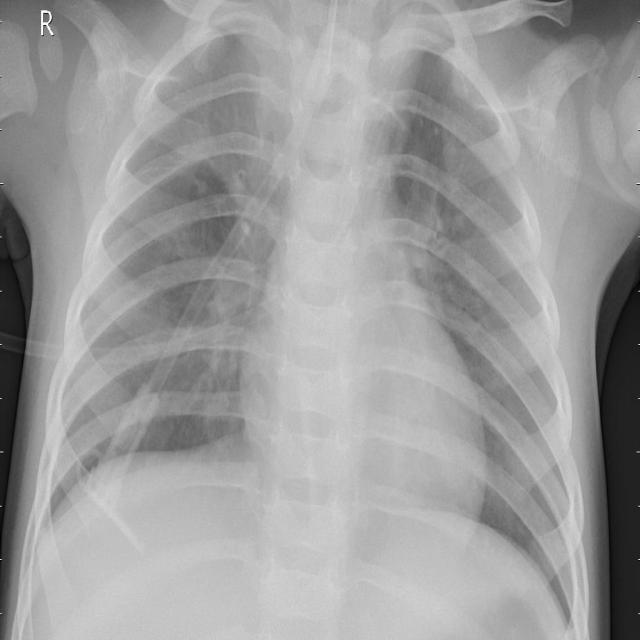low-pneumonia: (185, 221, 270, 409), (389, 163, 470, 327), (222, 19, 287, 220)
